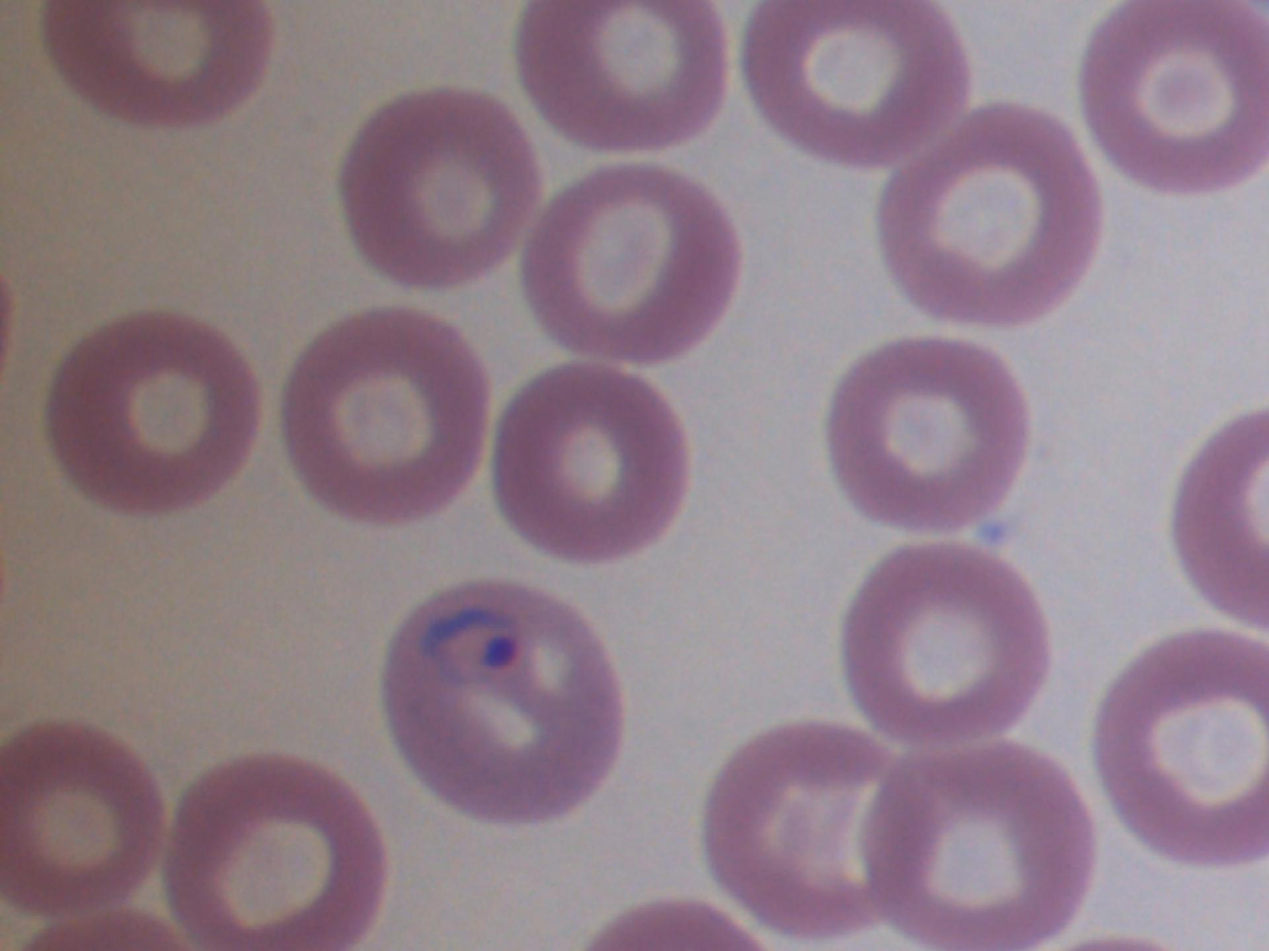Infected: (383, 577, 623, 823)
Uninfected: (877, 98, 1107, 330), (282, 307, 492, 521), (864, 747, 1092, 944), (50, 309, 262, 512), (169, 756, 387, 950), (524, 165, 738, 362), (703, 722, 902, 933), (842, 546, 1051, 741), (342, 89, 544, 288), (1098, 633, 1269, 862), (827, 339, 1030, 527), (492, 365, 687, 558), (745, 0, 972, 165), (1084, 1, 1266, 187), (0, 721, 165, 911), (520, 1, 725, 151), (48, 1, 269, 126)
